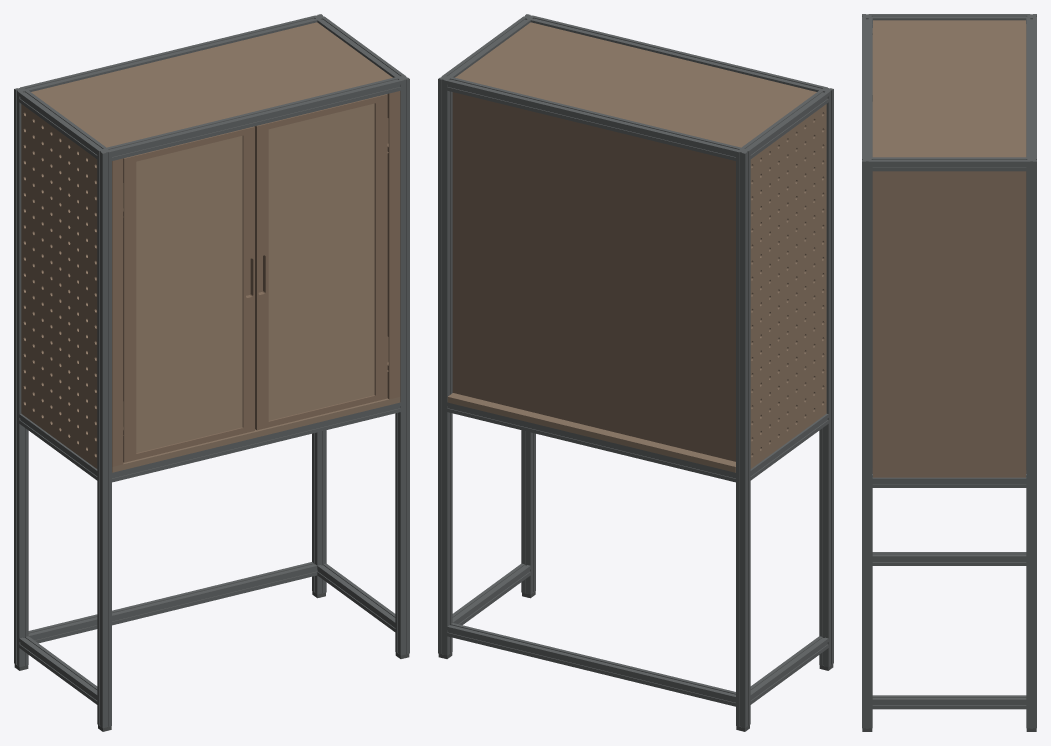
Rendered from closed.glb.
3 renders of one model, left to right at view 1: azimuth 30°, elevation 25°; view 2: azimuth 150°, elevation 25°; view 3: azimuth 270°, elevation 25°, orthographic.
Visible parts, largest first — view 1: L-front-panel, R-front-panel, B02-left-pegboard, B01-top-inset, Post-0-0, Post-970-0, Post-0-470, Beam-top-front, R-jamb, L-hinge-stile, R-meeting-stile, R-hinge-stile (+16 smaller); view 2: B04-back, B02-left-pegboard, B01-top-inset, Post-0-470, Post-970-470, Post-0-0, Beam-top-rear, Beam-lower-rear, B00-bottom-notched, Beam-body-rear, Post-970-0, Beam-top-front (+5 smaller); view 3: B03-right-side, B01-top-inset, Post-970-0, Post-970-470, Beam-lower-side-970, Beam-top-side-970, Beam-lower-side-0, Beam-body-side-970, Beam-top-rear, Beam-top-front, Beam-top-side-0, B04-back.
Boxes of the visible parts, x1,y1,x2,y2 form: L-front-panel: (136, 136, 242, 452); R-front-panel: (268, 103, 374, 420); B02-left-pegboard: (21, 104, 97, 468); B01-top-inset: (31, 22, 392, 147); Post-0-0: (97, 147, 111, 728); Post-970-0: (395, 75, 409, 655); Post-0-470: (14, 86, 28, 667); Beam-top-front: (107, 77, 400, 160); R-jamb: (387, 91, 400, 399); L-hinge-stile: (123, 155, 136, 462); R-meeting-stile: (254, 123, 268, 430); R-hinge-stile: (374, 94, 387, 401); B04-back: (452, 92, 735, 461); B02-left-pegboard: (750, 104, 826, 468); B01-top-inset: (455, 22, 816, 147); Post-0-470: (736, 147, 750, 728); Post-970-470: (438, 75, 452, 655); Post-0-0: (819, 86, 833, 667); Beam-top-rear: (447, 77, 740, 160); Beam-lower-rear: (447, 623, 735, 706); B00-bottom-notched: (447, 393, 735, 472); Beam-body-rear: (447, 402, 735, 482); Post-970-0: (521, 14, 535, 594); Beam-top-front: (530, 16, 823, 91); B03-right-side: (873, 171, 1025, 477); B01-top-inset: (873, 20, 1025, 157); Post-970-0: (862, 157, 872, 728); Post-970-470: (1026, 157, 1036, 728); Beam-lower-side-970: (872, 695, 1026, 709); Beam-top-side-970: (872, 157, 1026, 171); Beam-lower-side-0: (872, 552, 1026, 565); Beam-body-side-970: (872, 474, 1026, 487); Beam-top-rear: (1026, 18, 1036, 157); Beam-top-front: (862, 18, 872, 157); Beam-top-side-0: (872, 14, 1026, 27); B04-back: (1026, 24, 1026, 469).
Bounding box in the file's own units: 1 × 1.8 × 0.5.
